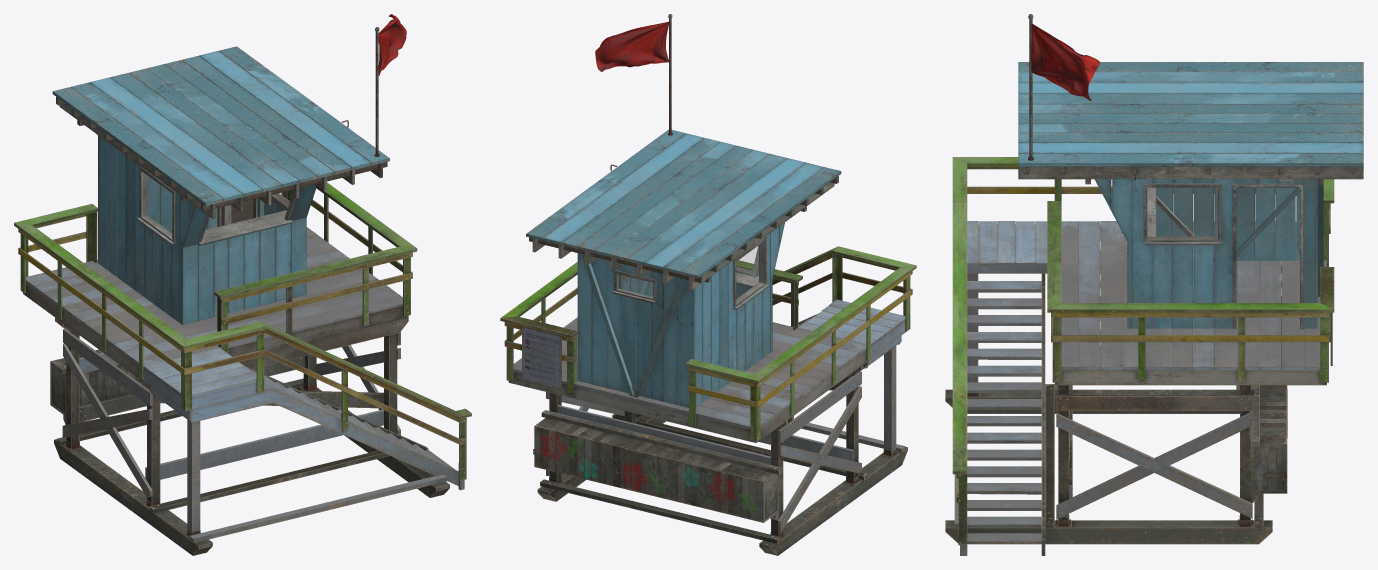
File: lifeguard_tower.glb
3 renders of one model, left to right at view 1: azimuth 30°, elevation 25°; view 2: azimuth 150°, elevation 25°; view 3: azimuth 270°, elevation 25°, orthographic. The views are drawn at different scales.
Visible parts, largest first — view 1: base1, base3, base2, flag, props; view 2: base3, base1, base2, props, flag; view 3: base1, base3, base2, flag, props.
Boxes of the visible parts, box(x1,y1,x2,y2) form: base1: box(23, 182, 458, 555); base3: box(52, 46, 389, 324); base2: box(14, 204, 471, 490); flag: box(378, 14, 406, 75); props: box(231, 27, 379, 223); base3: box(526, 129, 841, 407); base1: box(500, 260, 907, 555); base2: box(685, 246, 916, 441); props: box(522, 14, 672, 454); flag: box(595, 21, 668, 71); base1: box(945, 201, 1334, 555); base3: box(1018, 62, 1363, 329); base2: box(952, 157, 1334, 555); flag: box(1031, 23, 1099, 100); props: box(1028, 14, 1332, 480).
Size of the model in its own units: 20.7 by 31.01 by 23.
5 materials, 5 textured.
